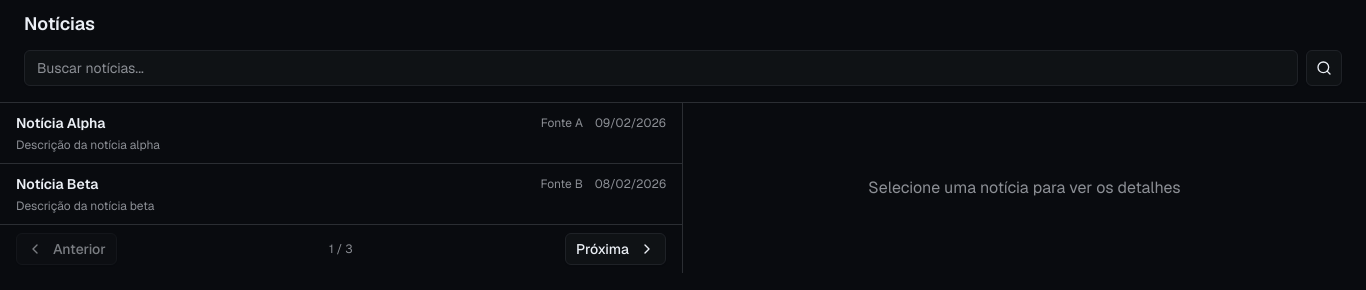
NewsPanel › Pagination › fetches next page and updates page indicator when Próxima is clicked
Expected: the text "Notícia Alpha" is shown, [16,114,106,132]
Expected: the text "1 / 3" is shown, [329,241,353,257]
Click the button "Próxima" at {"x": 615, "y": 249}, box [565,233,666,265]
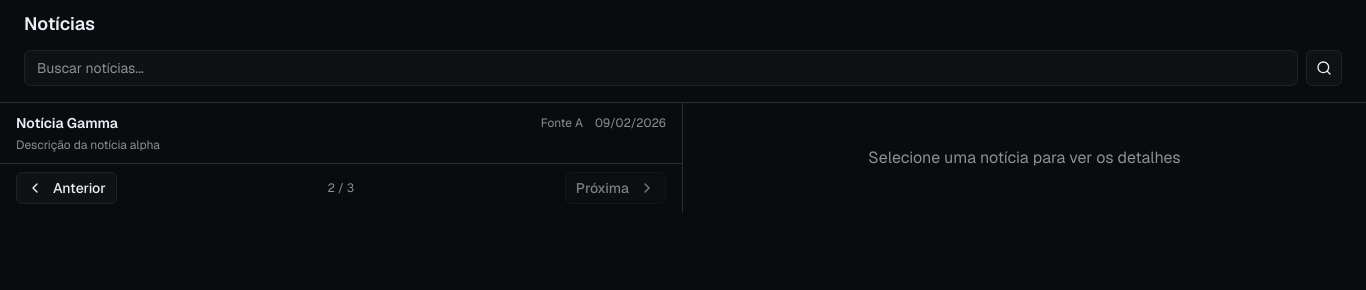
Result: the text "Notícia Gamma" is shown at [16,114,118,132]
Result: the text "2 / 3" is shown at [328,180,354,196]
